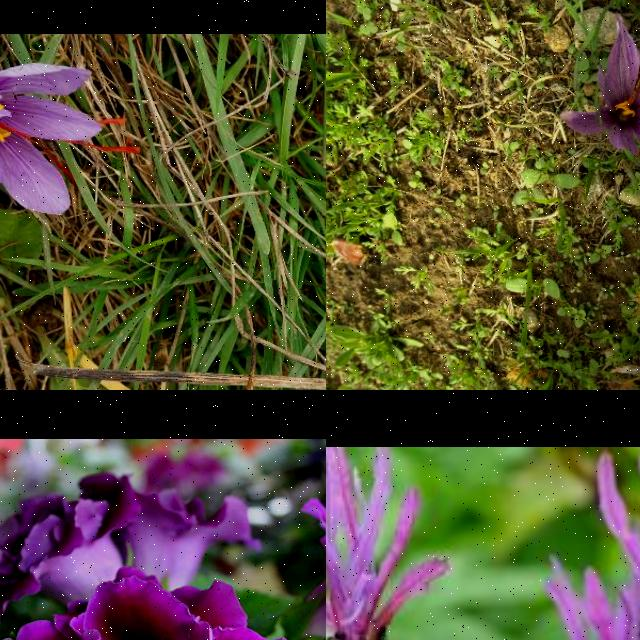flower: (0, 62, 142, 216), (560, 22, 640, 162)
